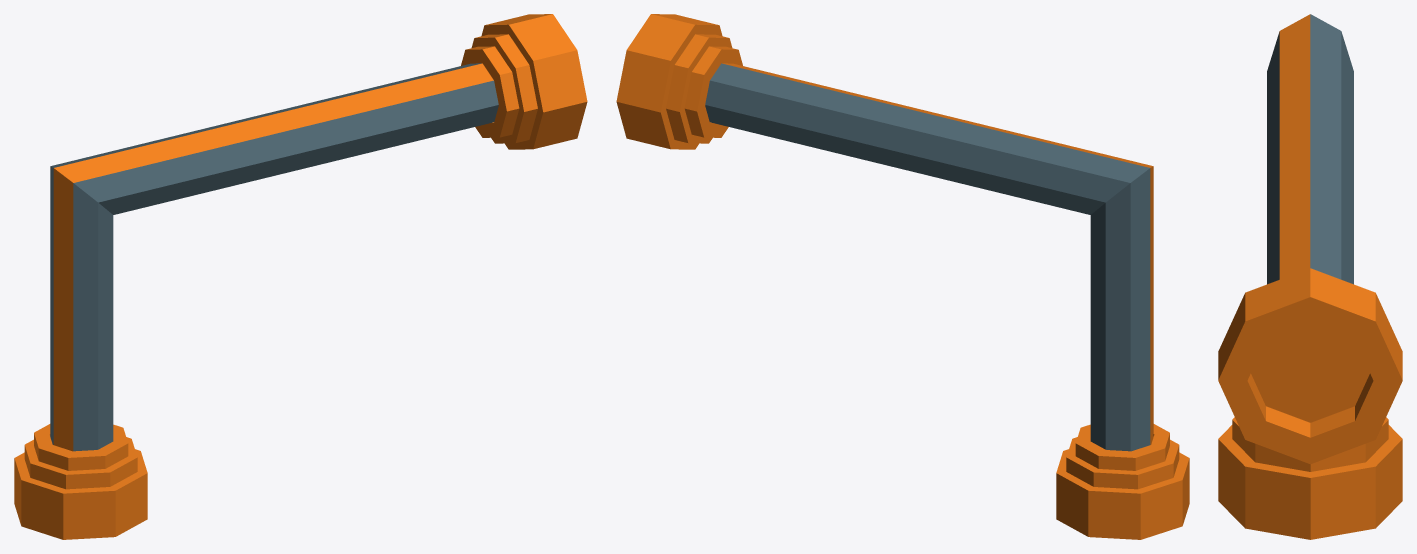
Rendered from Pipe 6.fbx.
The picture shows the model from 3 angles, left to right: view 1: azimuth 30°, elevation 25°; view 2: azimuth 150°, elevation 25°; view 3: azimuth 270°, elevation 25°; orthographic projection. The views are drawn at different scales.
Visible parts, largest first — view 1: Cylinder.014; view 2: Cylinder.014; view 3: Cylinder.014.
Boxes of the visible parts, x1=… form: Cylinder.014: x1=14, y1=14, x2=587, y2=539; Cylinder.014: x1=616, y1=14, x2=1189, y2=539; Cylinder.014: x1=1218, y1=14, x2=1402, y2=539.
Size of the model in its own units: 0.7046 by 0.4846 by 0.1583.
